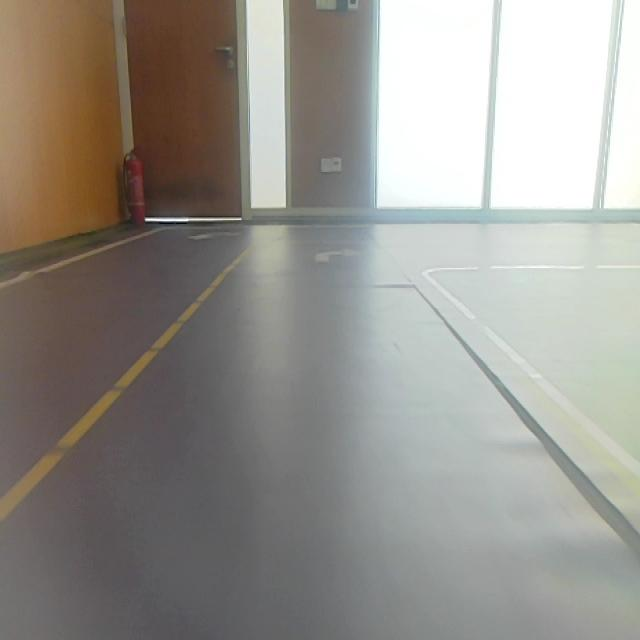left_lane: (1, 249, 252, 521)
right_lane: (421, 274, 640, 497)
